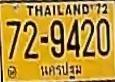0: (96, 18, 110, 55)
2: (23, 20, 40, 59), (81, 19, 94, 54)
4: (66, 18, 79, 57)
7: (6, 20, 20, 58)
9: (50, 19, 63, 57), (50, 20, 63, 57)
NPT: (39, 62, 83, 80)
